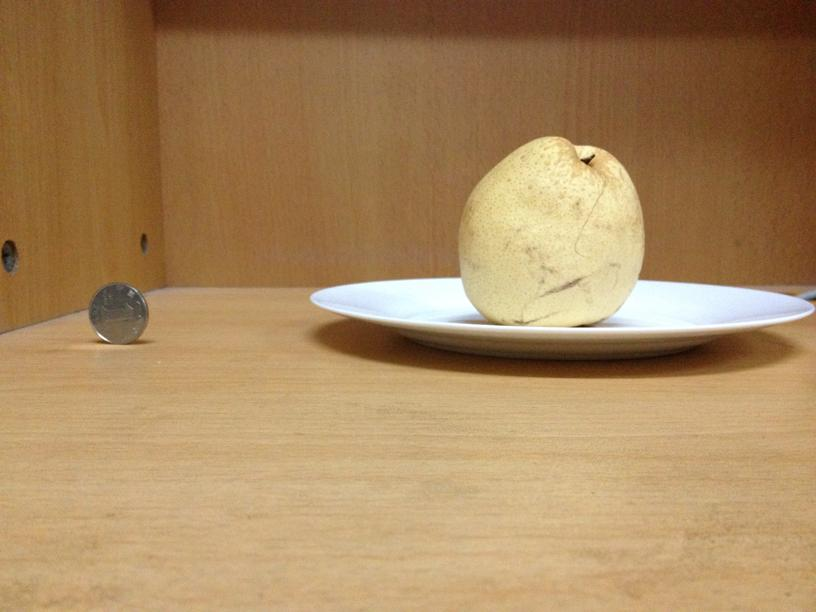coin: (86, 282, 148, 345)
pear: (458, 136, 647, 325)
